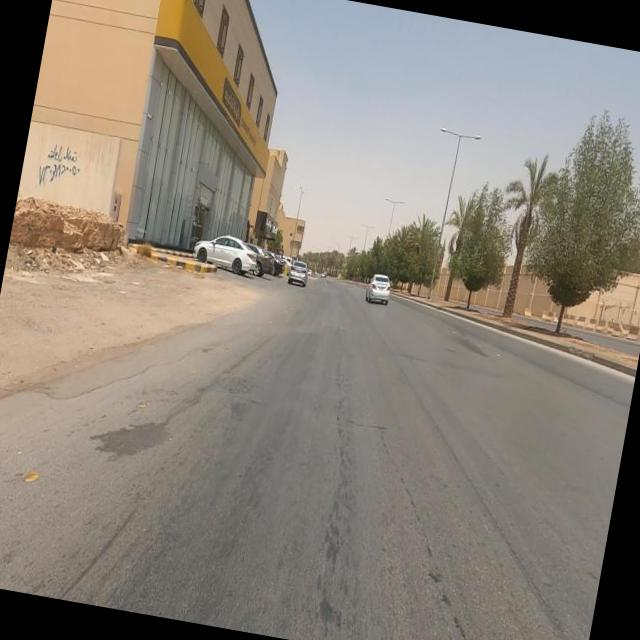debris: (14, 101, 137, 232)
